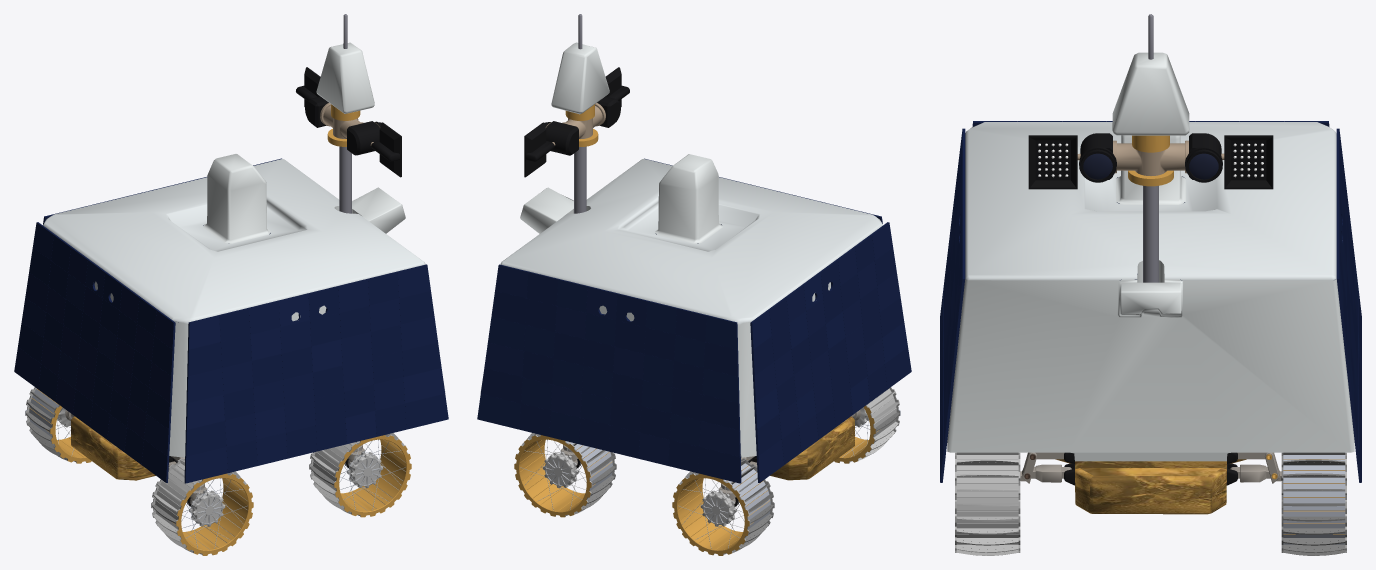
File: rover.glb
The picture shows the model from 3 angles, left to right: view 1: azimuth 30°, elevation 25°; view 2: azimuth 150°, elevation 25°; view 3: azimuth 270°, elevation 25°; orthographic projection. The views are drawn at different scales.
Visible parts, largest first — view 1: body:visual, right_solar_panel:visual, rear_solar_panel:visual, rear_right_wheel:visual, front_right_wheel:visual, mast_camera:visual, rear_left_wheel:visual, chassis:visual, mast_head_pivot:visual; view 2: body:visual, left_solar_panel:visual, rear_solar_panel:visual, rear_left_wheel:visual, front_left_wheel:visual, mast_camera:visual, rear_right_wheel:visual, chassis:visual, mast_head_pivot:visual; view 3: body:visual, mast_camera:visual, chassis:visual, front_left_wheel:visual, front_right_wheel:visual, left_solar_panel:visual, right_solar_panel:visual, mast_head_pivot:visual, front_left_suspension:visual, front_right_suspension:visual.
Boxes of the visible parts, left/top/right/bottom form: body:visual: left=43, top=14, right=445, bottom=457; right_solar_panel:visual: left=184, top=264, right=448, bottom=483; rear_solar_panel:visual: left=14, top=222, right=175, bottom=482; rear_right_wheel:visual: left=151, top=458, right=253, bottom=555; front_right_wheel:visual: left=309, top=433, right=411, bottom=517; mast_camera:visual: left=296, top=67, right=401, bottom=177; rear_left_wheel:visual: left=25, top=387, right=91, bottom=463; chassis:visual: left=71, top=416, right=155, bottom=480; mast_head_pivot:visual: left=320, top=103, right=363, bottom=138; body:visual: left=480, top=14, right=882, bottom=457; left_solar_panel:visual: left=477, top=264, right=741, bottom=483; rear_solar_panel:visual: left=750, top=222, right=911, bottom=482; rear_left_wheel:visual: left=672, top=458, right=774, bottom=555; front_left_wheel:visual: left=514, top=433, right=616, bottom=517; mast_camera:visual: left=524, top=67, right=629, bottom=177; rear_right_wheel:visual: left=834, top=387, right=900, bottom=463; chassis:visual: left=770, top=416, right=854, bottom=480; mast_head_pivot:visual: left=562, top=103, right=605, bottom=138; body:visual: left=947, top=14, right=1354, bottom=461; mast_camera:visual: left=1028, top=133, right=1273, bottom=189; chassis:visual: left=1055, top=459, right=1246, bottom=514; front_left_wheel:visual: left=1281, top=452, right=1346, bottom=555; front_right_wheel:visual: left=955, top=452, right=1020, bottom=555; left_solar_panel:visual: left=1336, top=128, right=1361, bottom=482; right_solar_panel:visual: left=940, top=128, right=965, bottom=482; mast_head_pivot:visual: left=1113, top=140, right=1188, bottom=175; front_left_suspension:visual: left=1226, top=452, right=1281, bottom=485; front_right_suspension:visual: left=1020, top=452, right=1075, bottom=485.
Size of the model in its own units: 1.68 by 2.3 by 1.55.
17 materials, 1 textured.
